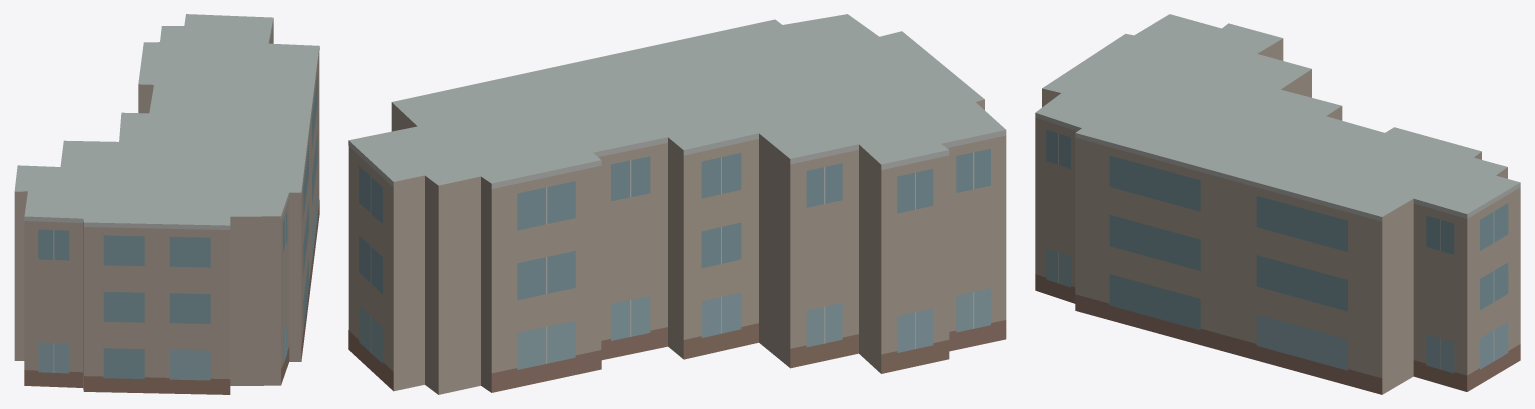
The model's file is survey-upis-32604247.glb.
3 views of the same model, side by side, from view 1: azimuth 30°, elevation 25°; view 2: azimuth 150°, elevation 25°; view 3: azimuth 270°, elevation 25° (orthographic). The views are drawn at different scales.
Parts seen in each view (by area): view 1: survey-upis-32604247.tmp; view 2: survey-upis-32604247.tmp; view 3: survey-upis-32604247.tmp.
Part boxes in pixels (x1,y1,x2,y2): survey-upis-32604247.tmp: (14,14,319,394); survey-upis-32604247.tmp: (348,14,1006,394); survey-upis-32604247.tmp: (1035,14,1520,394).
Size of the model in its own units: 22.53 by 9.2 by 22.76.
